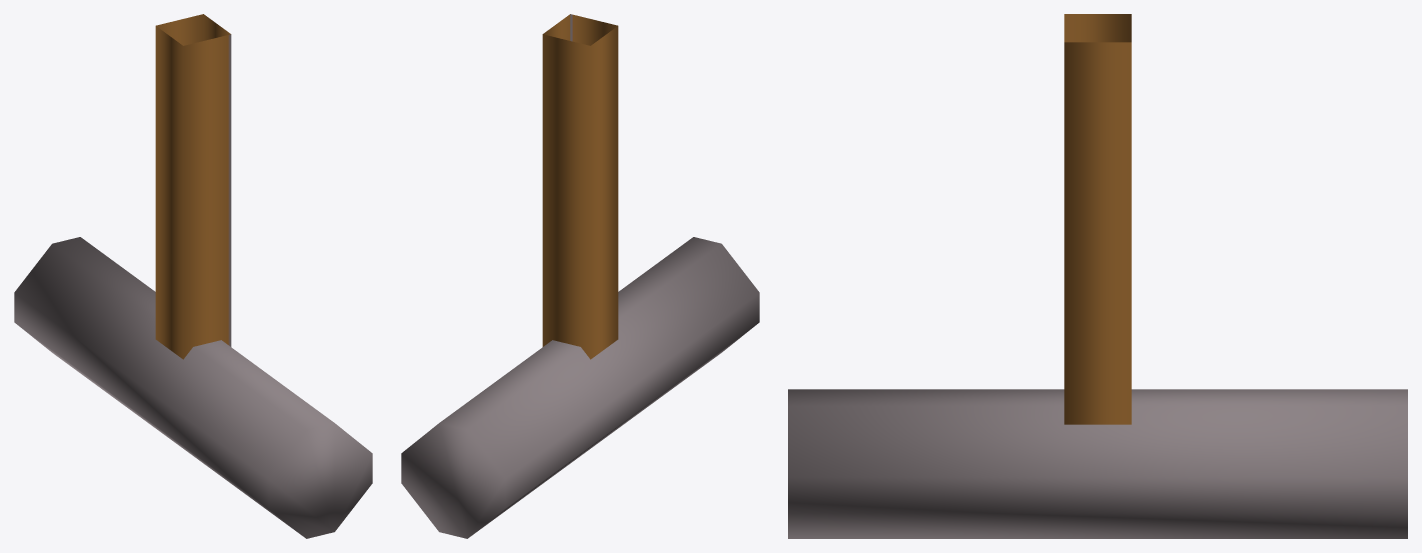
The model's file is Hammer.fbx.
3 views of the same model, side by side, from view 1: azimuth 30°, elevation 25°; view 2: azimuth 150°, elevation 25°; view 3: azimuth 270°, elevation 25° (orthographic). The views are drawn at different scales.
Parts seen in each view (by area): view 1: Hammer; view 2: Hammer; view 3: Hammer.
Boxes of the visible parts, x1,y1,x2,y2 form: Hammer: [14, 14, 372, 538]; Hammer: [401, 14, 759, 538]; Hammer: [788, 14, 1407, 538].
Size of the model in its own units: 141 by 534 by 597.
1 material, 1 textured.
